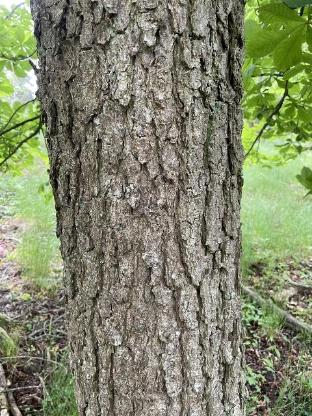tree: (24, 0, 263, 416)
